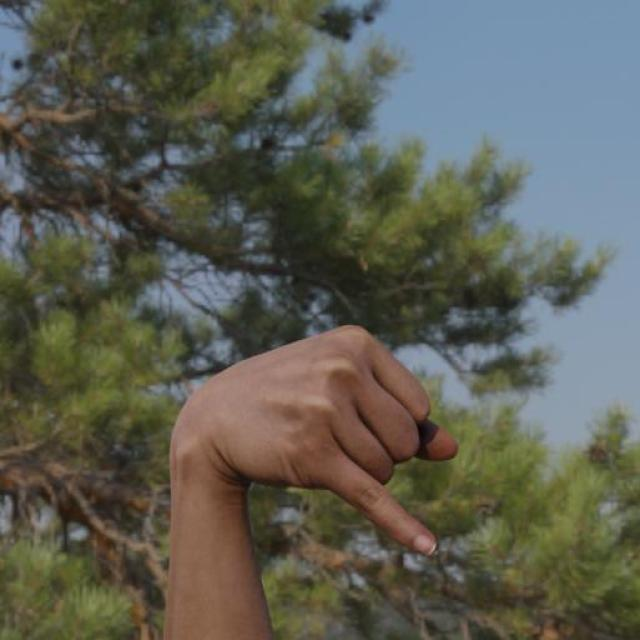J: (108, 288, 510, 620)
